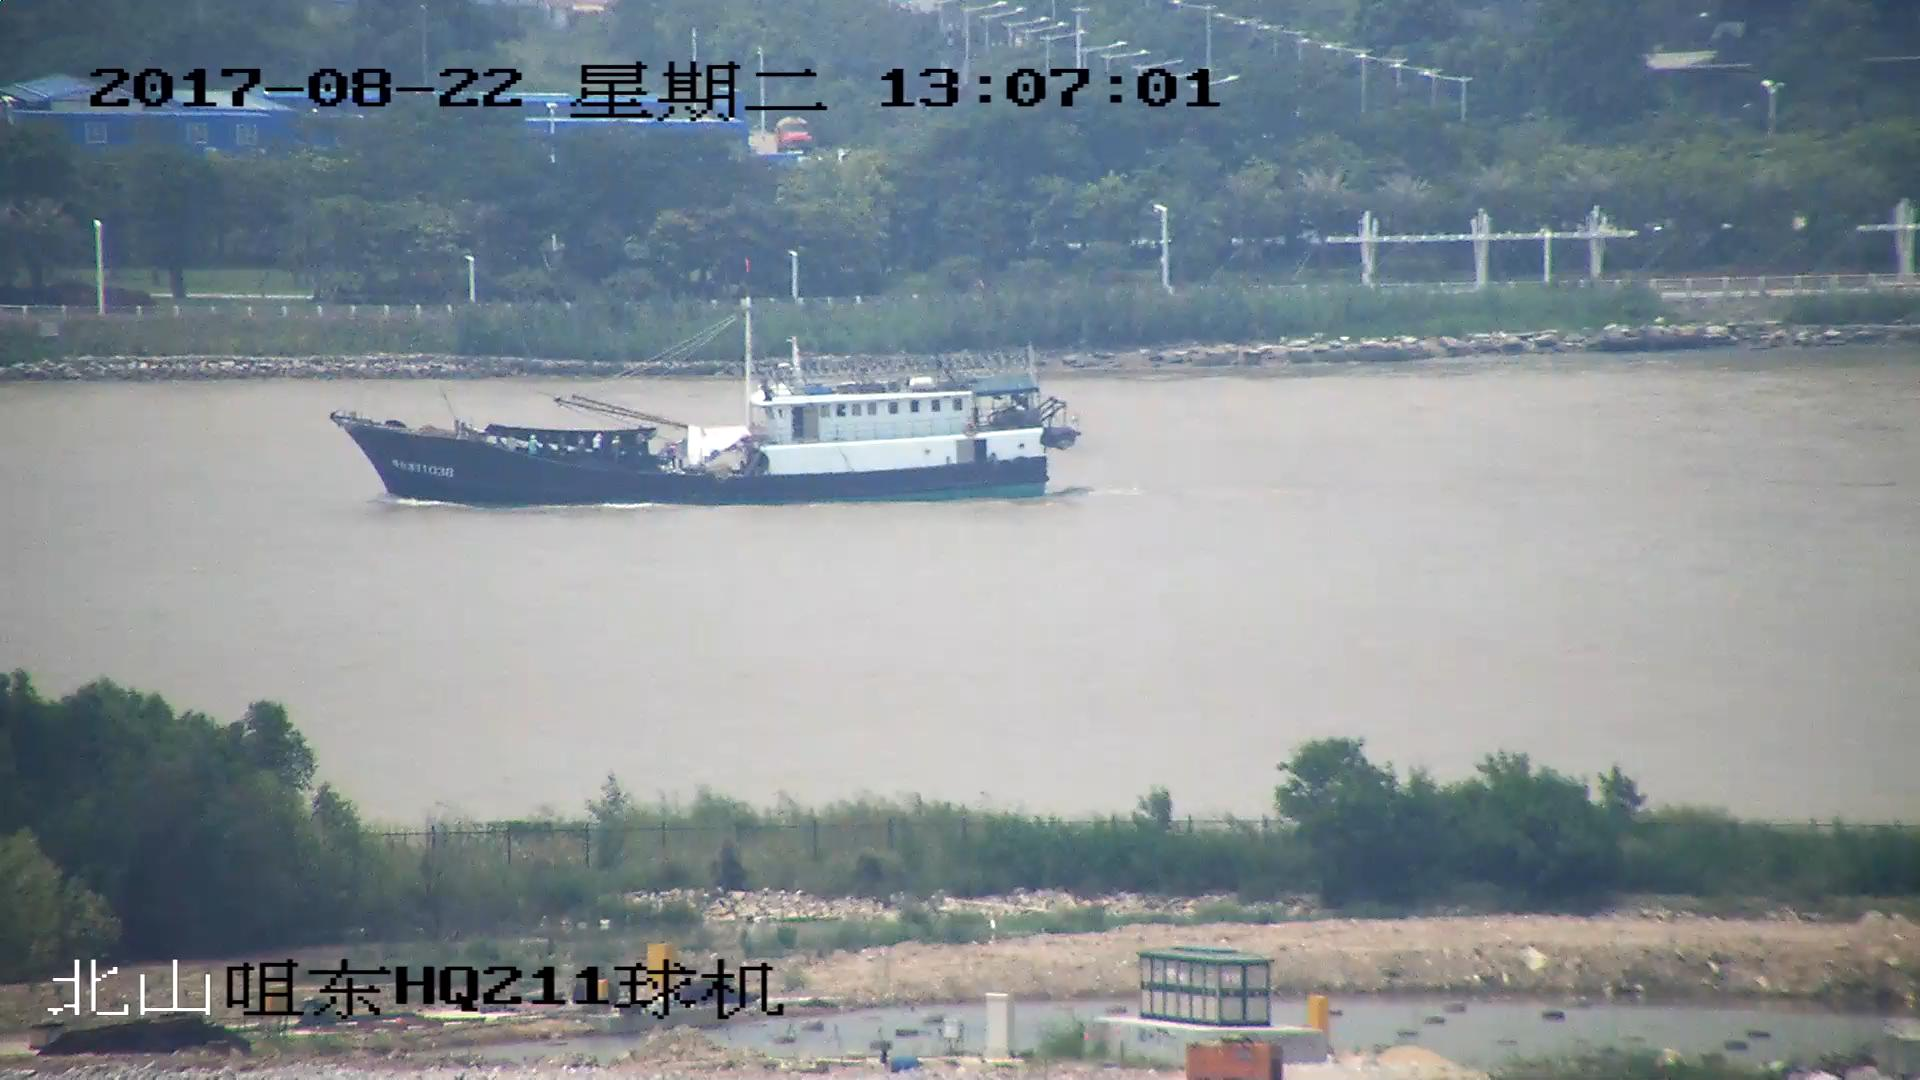fishing boat: (332, 293, 1082, 505)
